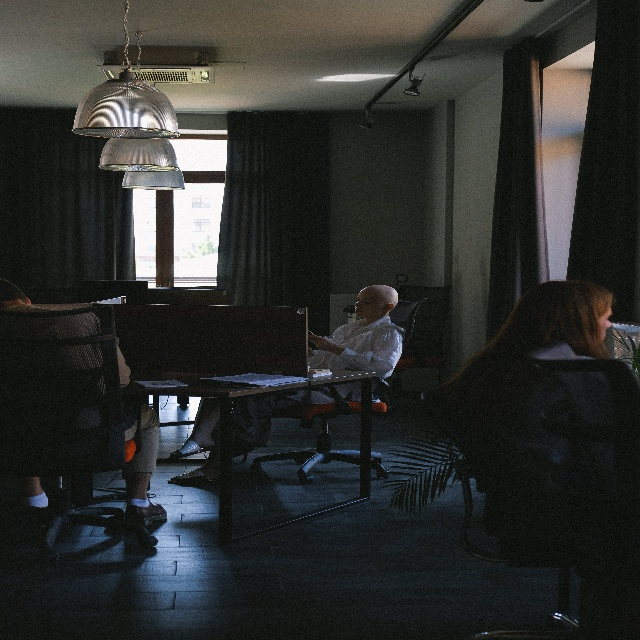Sin_guantes: (309, 331, 332, 353)
